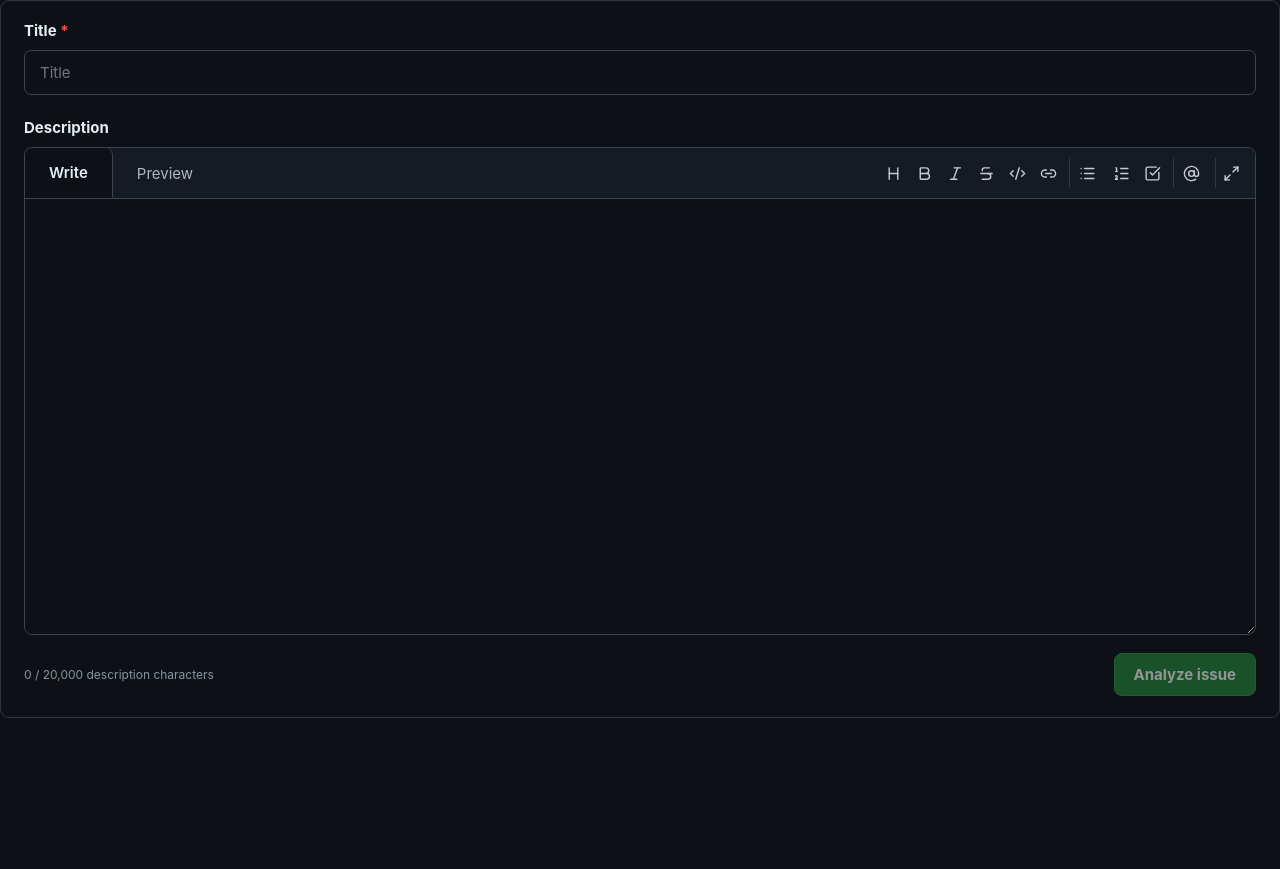
Test: IssueEditor › expands and collapses the editor
This screenshot has width=1280, height=869.
Click the button named "Expand editor": (1230, 173) 1215,158 -> 1246,188
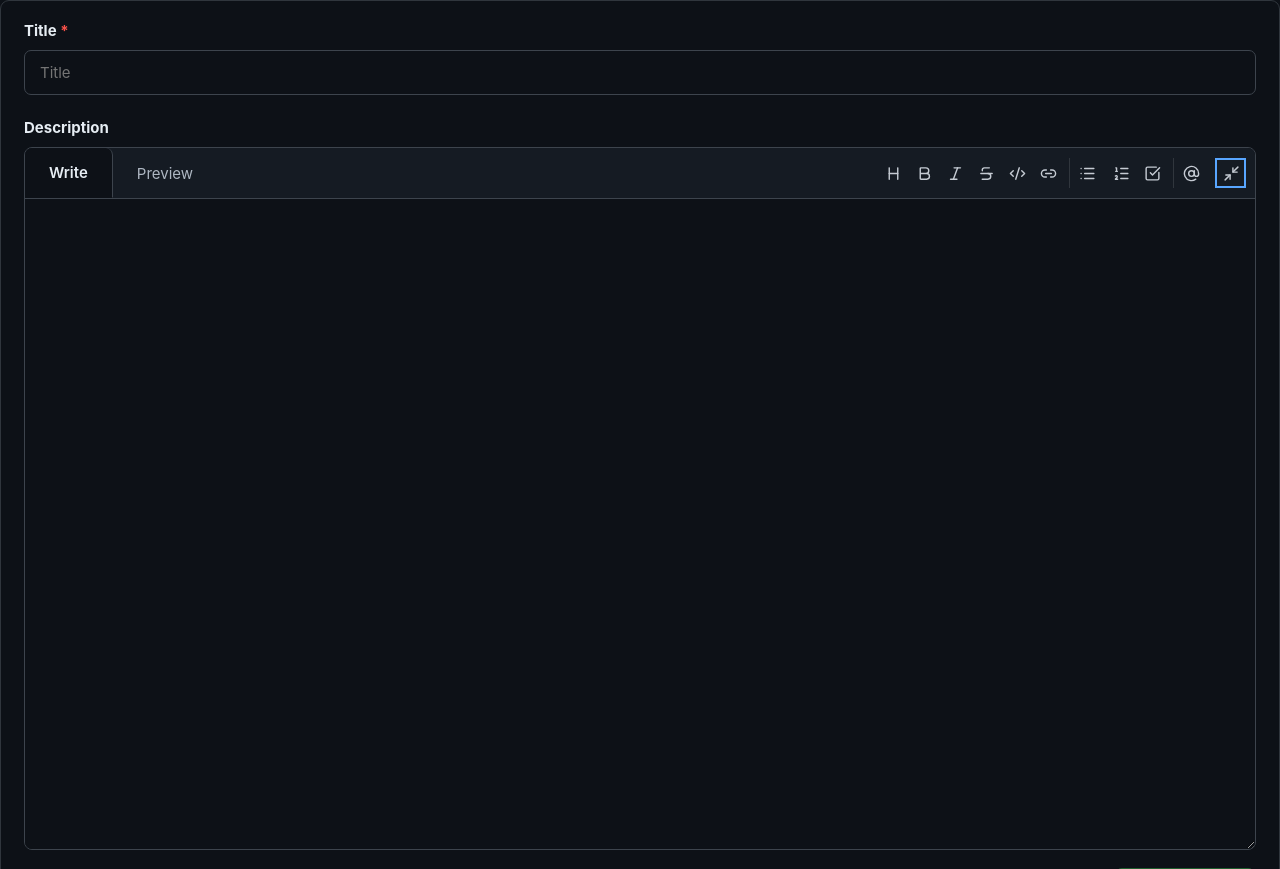
Click the button named "Collapse editor": (1230, 173) 1215,158 -> 1246,188
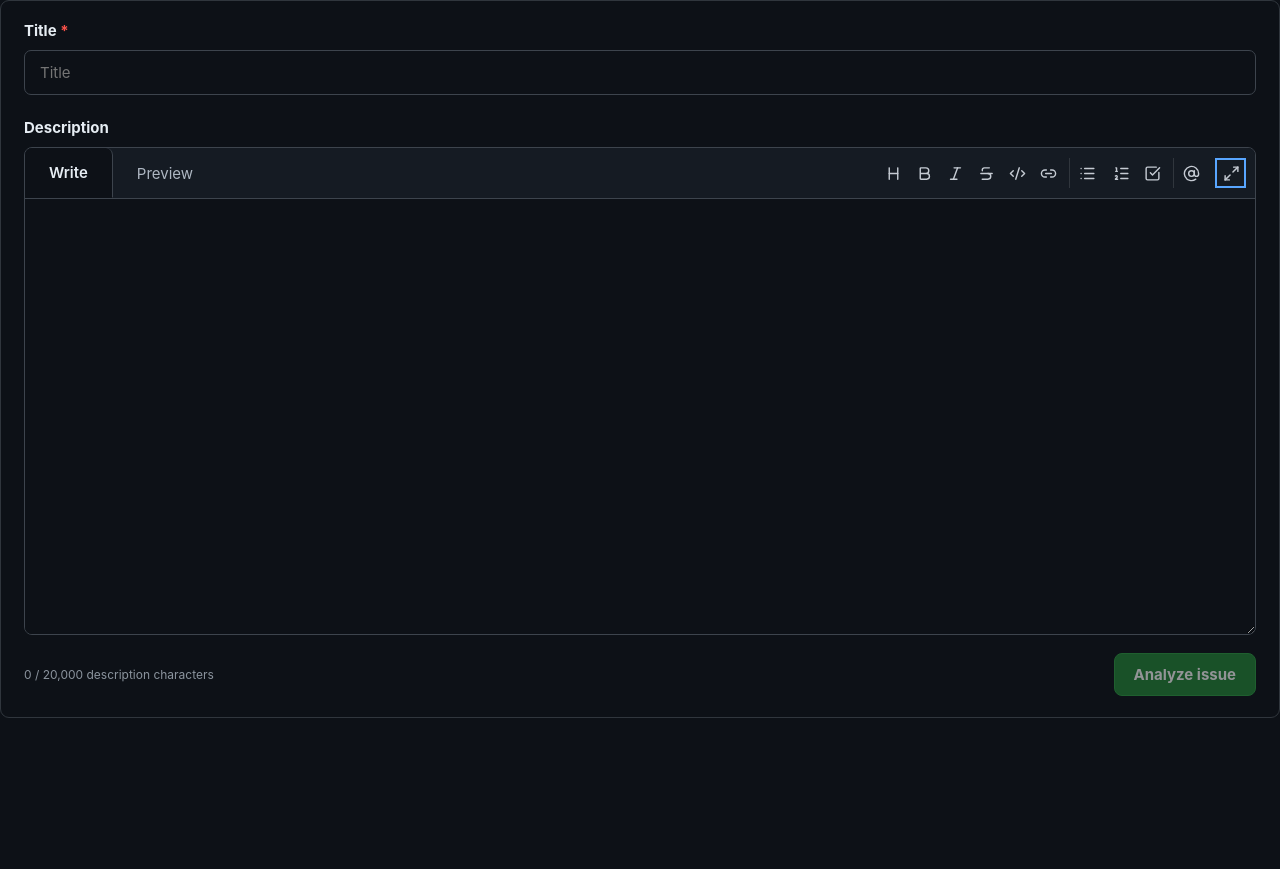
Result: the element named "Issue editor" does not have class "issue-card-expanded"
